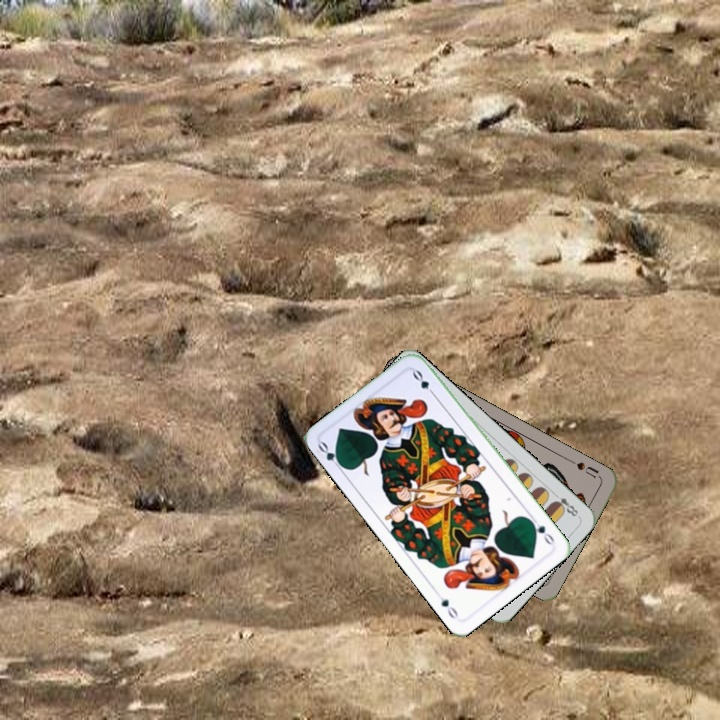E8: (549, 488, 581, 519)
GO: (314, 438, 347, 474), (525, 515, 557, 547)
SU: (565, 456, 603, 481)
